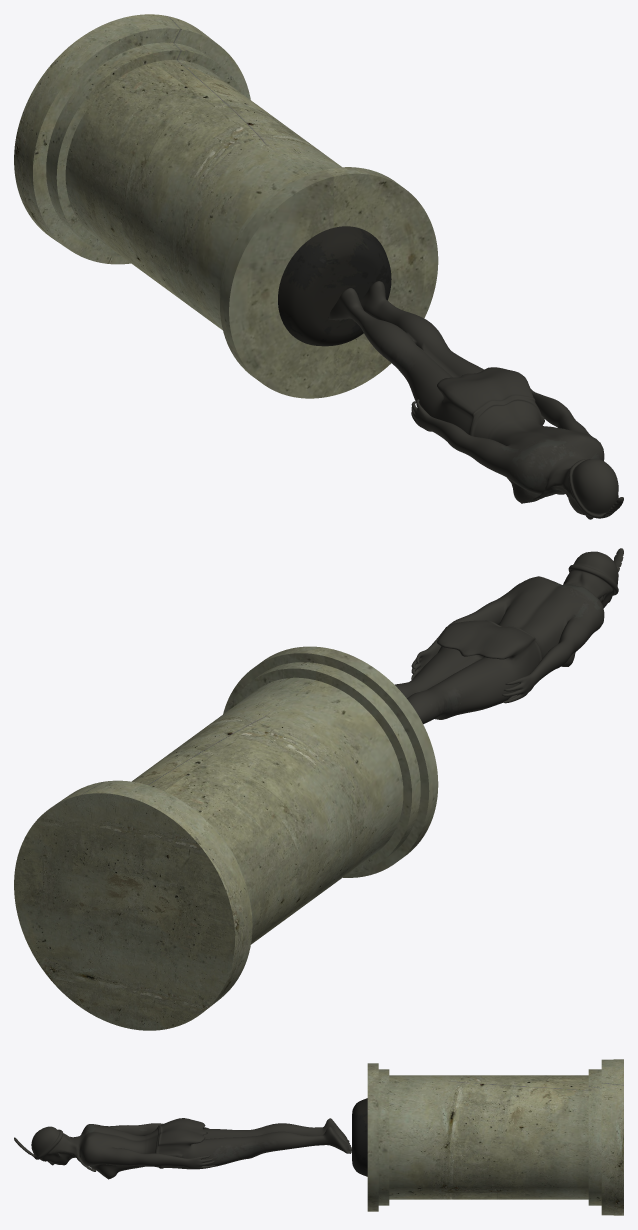
The model's file is 12350_IndiaCatalina_v1_L3.obj.
The picture shows the model from 3 angles, top to bottom: view 1: azimuth 30°, elevation 25°; view 2: azimuth 150°, elevation 25°; view 3: azimuth 270°, elevation 25°; orthographic projection. The views are drawn at different scales.
Parts seen in each view (by area): view 1: Stall_IndiaCatalinaStatueGroup, IndiaCatalinaStatueGroup_IndiaCatalinaStatue; view 2: Stall_IndiaCatalinaStatueGroup, IndiaCatalinaStatueGroup_IndiaCatalinaStatue; view 3: Stall_IndiaCatalinaStatueGroup, IndiaCatalinaStatueGroup_IndiaCatalinaStatue.
Boxes of the visible parts, left/top/right/bottom form: Stall_IndiaCatalinaStatueGroup: left=14, top=14, right=438, bottom=398; IndiaCatalinaStatueGroup_IndiaCatalinaStatue: left=328, top=281, right=623, bottom=519; Stall_IndiaCatalinaStatueGroup: left=14, top=646, right=438, bottom=1030; IndiaCatalinaStatueGroup_IndiaCatalinaStatue: left=395, top=548, right=623, bottom=724; Stall_IndiaCatalinaStatueGroup: left=352, top=1059, right=623, bottom=1215; IndiaCatalinaStatueGroup_IndiaCatalinaStatue: left=14, top=1118, right=351, bottom=1179.
Size of the model in its own units: 77.19 by 77.19 by 301.
2 materials, 2 textured.
